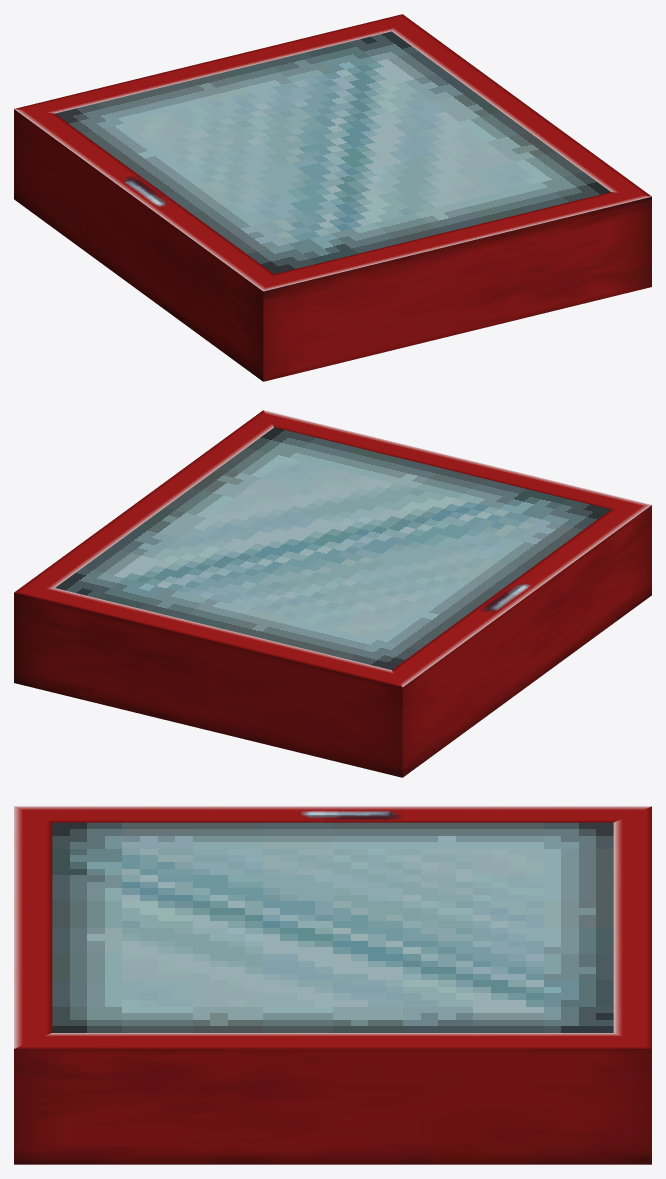
File: firehose_cabinet.fbx
3 renders of one model, top to bottom at view 1: azimuth 30°, elevation 25°; view 2: azimuth 150°, elevation 25°; view 3: azimuth 270°, elevation 25°, orthographic. The views are drawn at different scales.
Parts seen in each view (by area): view 1: mesh_0, mesh_1; view 2: mesh_0, mesh_1; view 3: mesh_1, mesh_0.
Boxes of the visible parts, left/top/right/bottom form: mesh_0: left=14, top=14, right=651, bottom=381; mesh_1: left=55, top=31, right=610, bottom=273; mesh_0: left=14, top=410, right=651, bottom=777; mesh_1: left=55, top=427, right=610, bottom=669; mesh_1: left=52, top=822, right=613, bottom=1032; mesh_0: left=14, top=806, right=651, bottom=1164.
Bounding box in the file's own units: 90 × 20 × 100.
2 materials, 2 textured.
